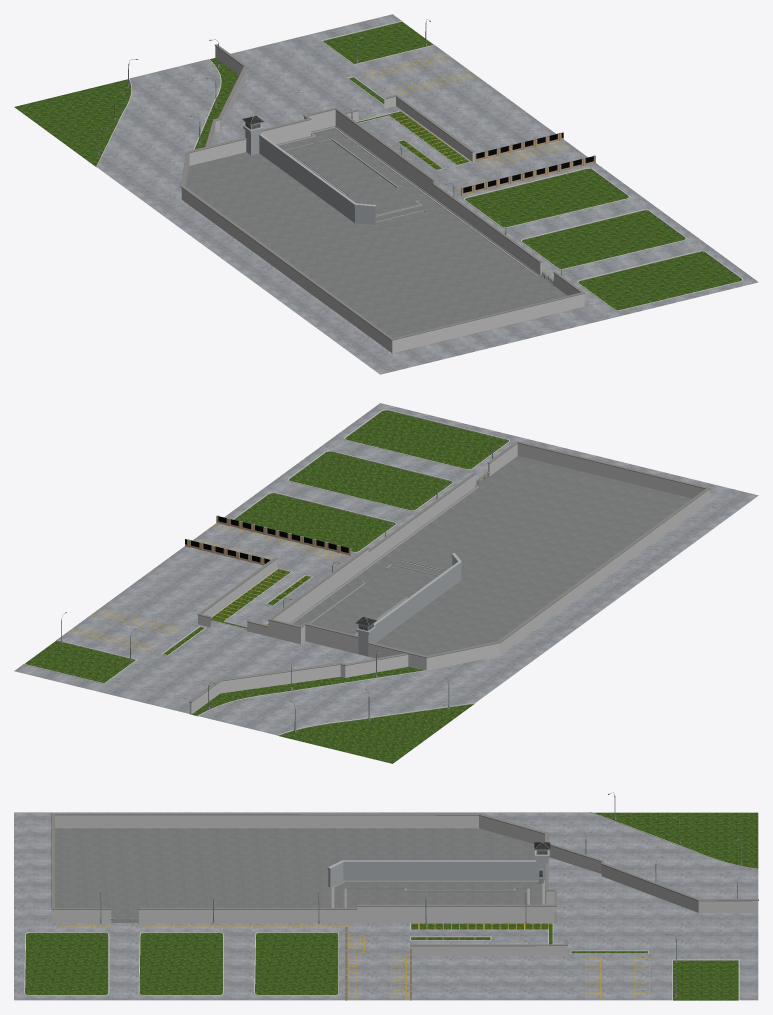
Rendered from hkjls_dx.obj.
3 renders of one model, top to bottom at view 1: azimuth 30°, elevation 25°; view 2: azimuth 150°, elevation 25°; view 3: azimuth 270°, elevation 25°, orthographic.
Visible parts, largest first — view 1: hkjls_dx_015, hkjls_dx_008, hkjls_dx_001, hkjls_dx_016, hkjls_dx_012, hkjls_dx_018, hkjls_dx_011, hkjls_dx_007, hkjls_dx_006, hkjls_dx_005; view 2: hkjls_dx_015, hkjls_dx_008, hkjls_dx_001, hkjls_dx_016, hkjls_dx_012, hkjls_dx_018, hkjls_dx_011, hkjls_dx_007, hkjls_dx_006, hkjls_dx_005; view 3: hkjls_dx_015, hkjls_dx_008, hkjls_dx_001, hkjls_dx_016, hkjls_dx_018, hkjls_dx_012, hkjls_dx_007, hkjls_dx_011, hkjls_dx_003.
Boxes of the visible parts, x1,y1,x2,y2 form: hkjls_dx_015: (97,14,758,374); hkjls_dx_008: (186,128,567,338); hkjls_dx_001: (14,21,741,310); hkjls_dx_016: (96,20,742,353); hkjls_dx_012: (180,44,595,340); hkjls_dx_018: (243,122,376,224); hkjls_dx_011: (276,125,540,276); hkjls_dx_007: (363,53,586,301); hkjls_dx_006: (461,134,595,195); hkjls_dx_005: (463,132,593,192); hkjls_dx_015: (14,403,758,735); hkjls_dx_008: (293,456,691,655); hkjls_dx_001: (25,410,508,763); hkjls_dx_016: (23,409,709,735); hkjls_dx_012: (185,441,710,702); hkjls_dx_018: (356,553,461,656); hkjls_dx_011: (289,485,478,635); hkjls_dx_007: (68,469,487,652); hkjls_dx_006: (185,516,351,565); hkjls_dx_005: (185,516,348,563); hkjls_dx_015: (14,812,758,1000); hkjls_dx_008: (55,828,546,922); hkjls_dx_001: (25,812,758,1000); hkjls_dx_016: (24,812,758,999); hkjls_dx_018: (327,850,549,886); hkjls_dx_012: (51,813,758,998); hkjls_dx_007: (62,923,649,999); hkjls_dx_011: (331,880,544,907); hkjls_dx_003: (100,792,741,994).
Bounding box in the file's own units: 11323 × 1025 × 18982.
Materials: 18 (18 with a texture image).
